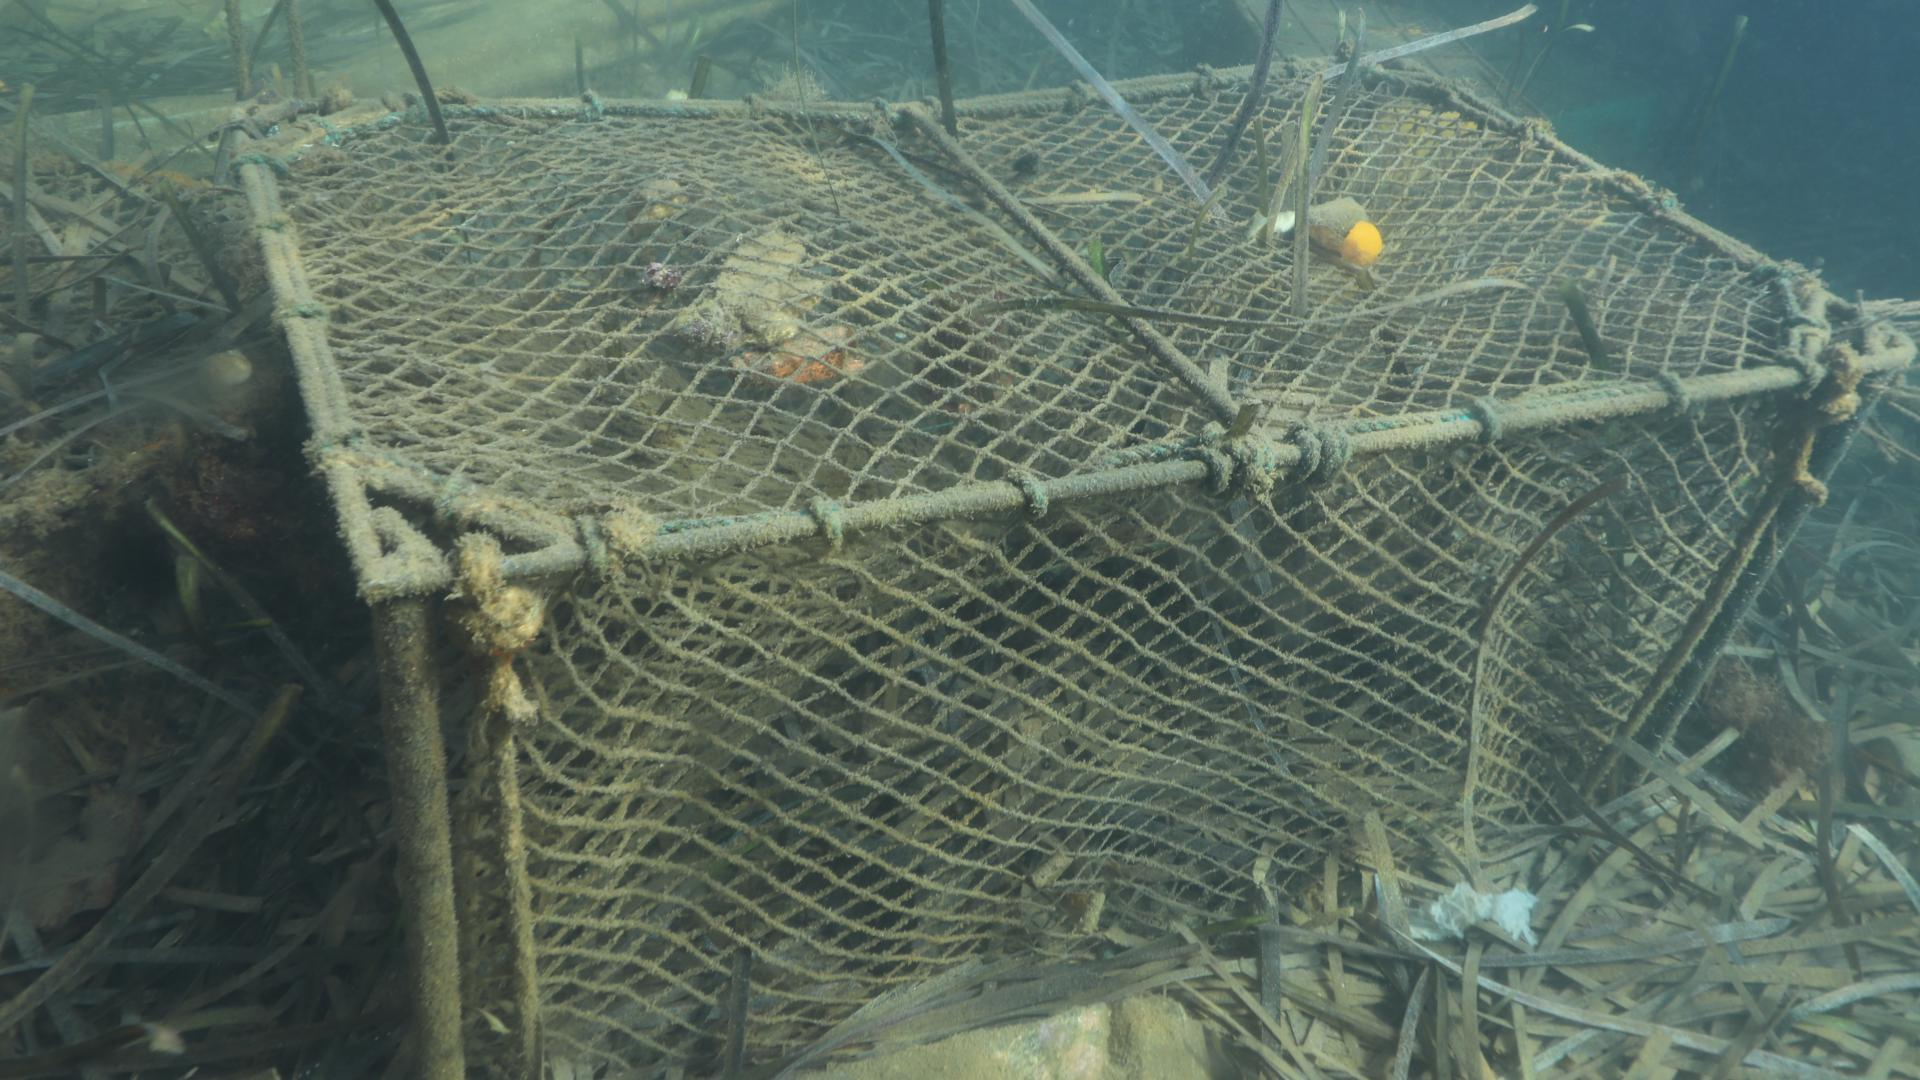rectangular fish trap: (222, 37, 1915, 1080)
